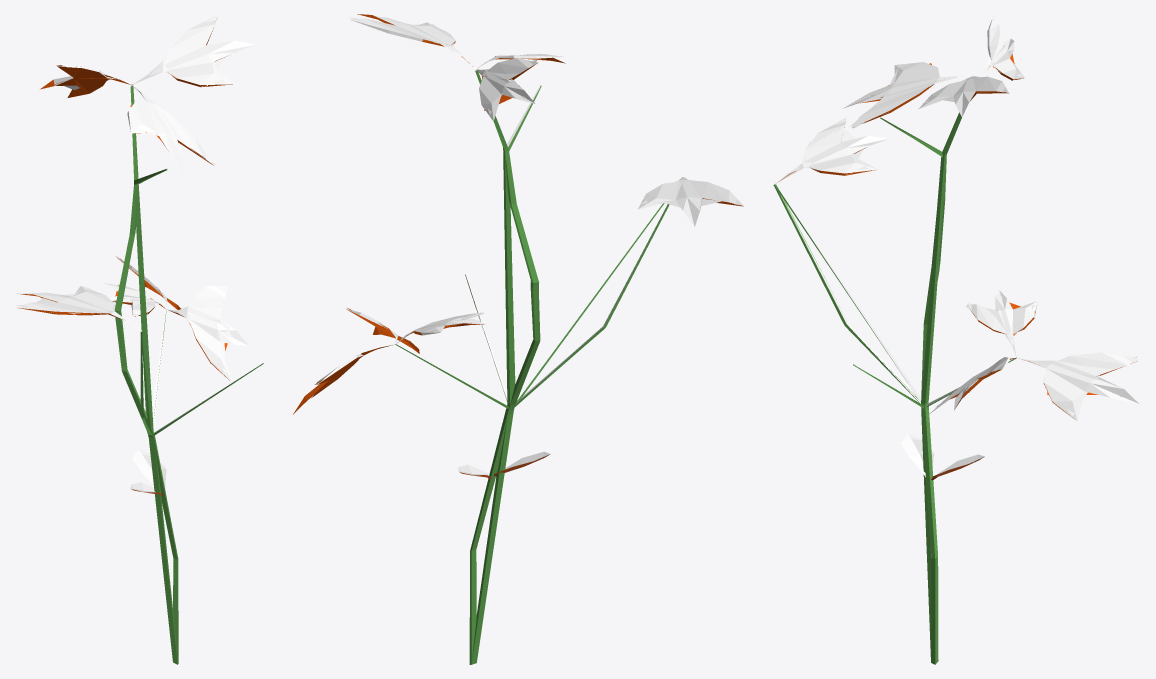
Rendered from Herb_8_Snowy.fbx.
3 renders of one model, left to right at view 1: azimuth 30°, elevation 25°; view 2: azimuth 150°, elevation 25°; view 3: azimuth 270°, elevation 25°, orthographic. The views are drawn at different scales.
Visible parts, largest first — view 1: Herb 8_LOD0_Snowy, Herb 8_LOD3_Snowy, Herb 8_LOD2_Snowy, Herb 8_LOD1_Snowy; view 2: Herb 8_LOD0_Snowy, Herb 8_LOD3_Snowy, Herb 8_LOD2_Snowy, Herb 8_LOD1_Snowy; view 3: Herb 8_LOD0_Snowy, Herb 8_LOD3_Snowy, Herb 8_LOD2_Snowy, Herb 8_LOD1_Snowy.
Part boxes in pixels (box(x1,y1,x2,y2)): Herb 8_LOD0_Snowy: box(16, 20, 263, 663); Herb 8_LOD3_Snowy: box(35, 14, 227, 664); Herb 8_LOD2_Snowy: box(14, 14, 238, 559); Herb 8_LOD1_Snowy: box(36, 47, 238, 646); Herb 8_LOD0_Snowy: box(293, 14, 744, 664); Herb 8_LOD3_Snowy: box(319, 17, 725, 664); Herb 8_LOD2_Snowy: box(307, 17, 743, 655); Herb 8_LOD1_Snowy: box(311, 17, 699, 664); Herb 8_LOD0_Snowy: box(773, 15, 1139, 664); Herb 8_LOD3_Snowy: box(776, 15, 1139, 656); Herb 8_LOD2_Snowy: box(781, 15, 1140, 558); Herb 8_LOD1_Snowy: box(805, 48, 1092, 664).
Size of the model in its own units: 36.88 by 71.13 by 38.9.
